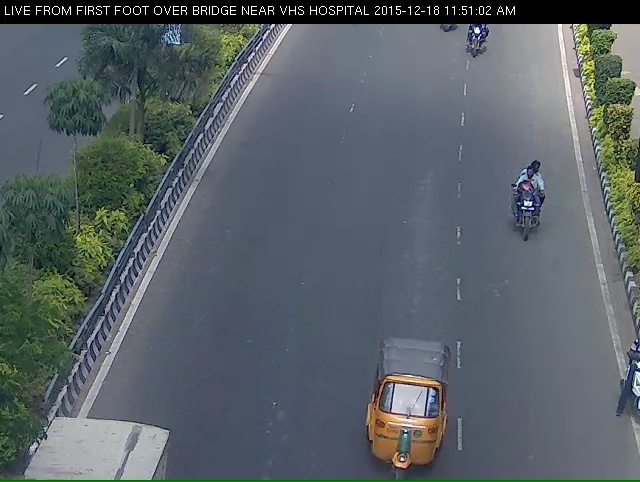Auto: (362, 360, 449, 478)
Person: (509, 172, 552, 254)
